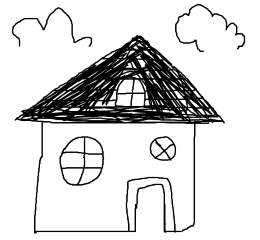closed_window: (57, 135, 106, 185), (148, 134, 176, 161)
clouds: (174, 4, 246, 51), (12, 6, 93, 47)
door: (120, 172, 182, 235)
shaded_roof: (14, 34, 226, 123)
wall: (30, 118, 199, 236)
